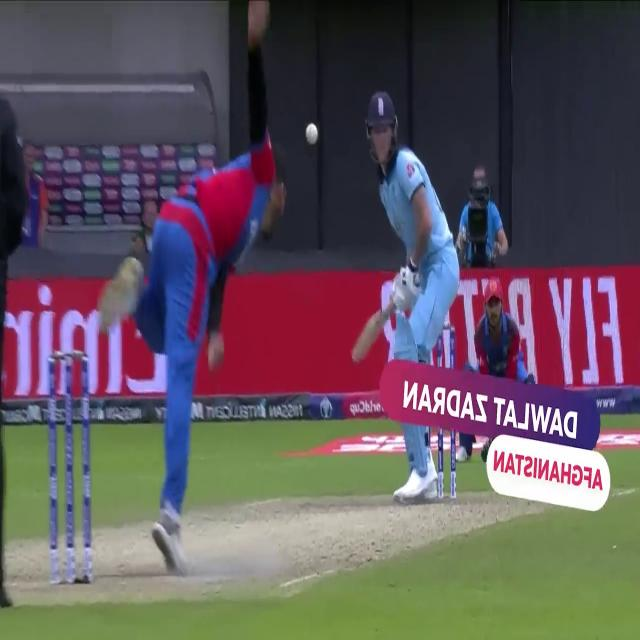ball: (302, 116, 322, 150)
